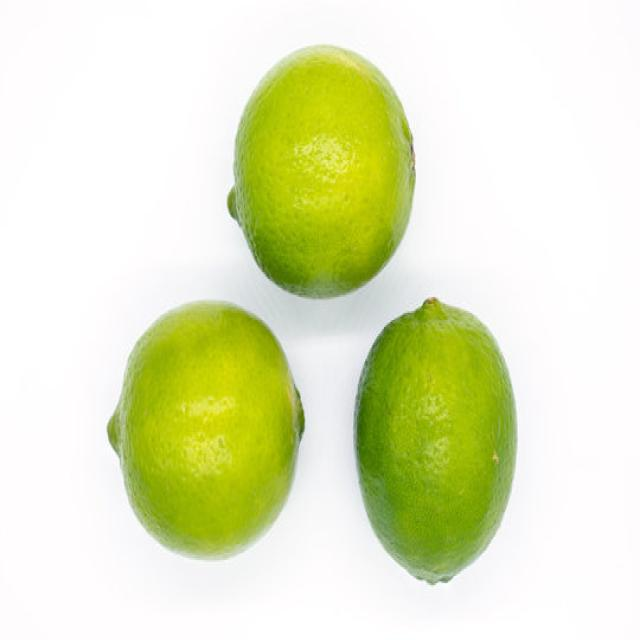Lemon: (106, 297, 304, 560), (226, 41, 416, 299), (353, 295, 518, 585)
